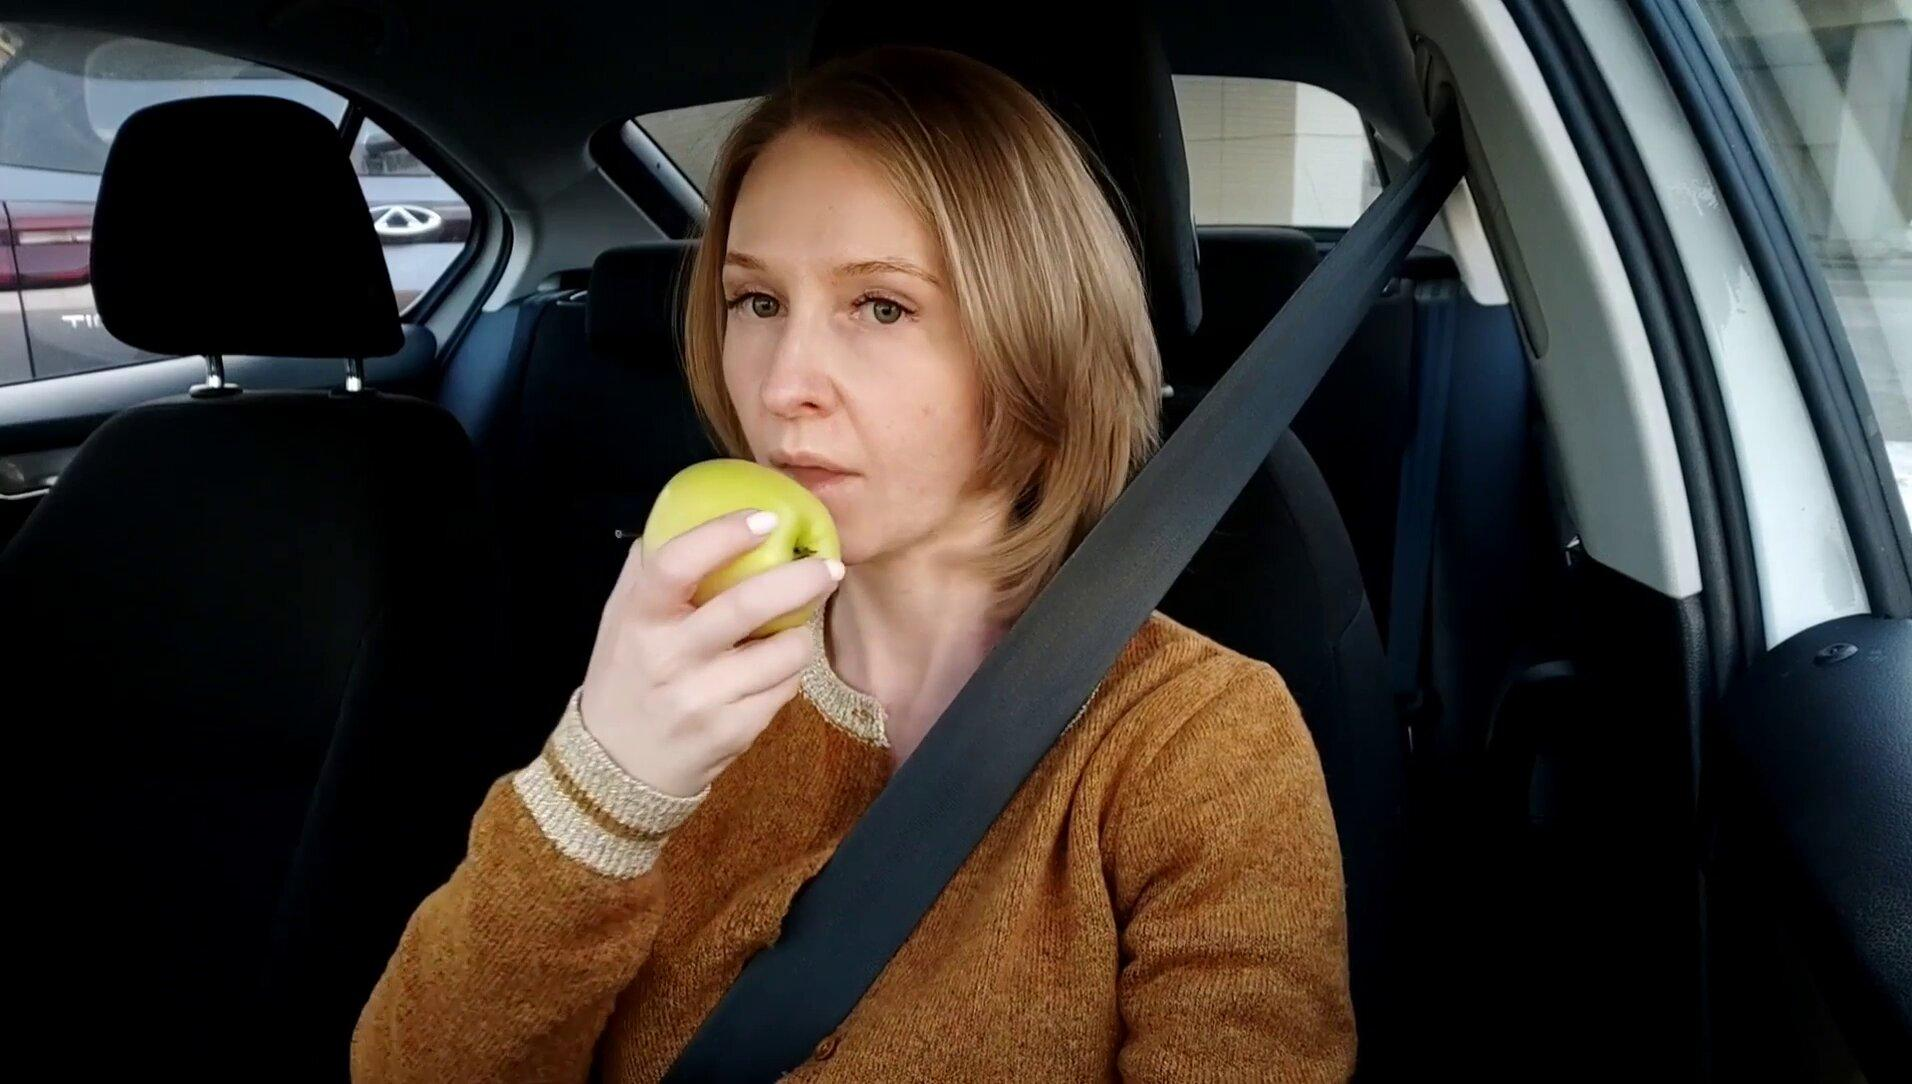Eating: (636, 449, 852, 650)
